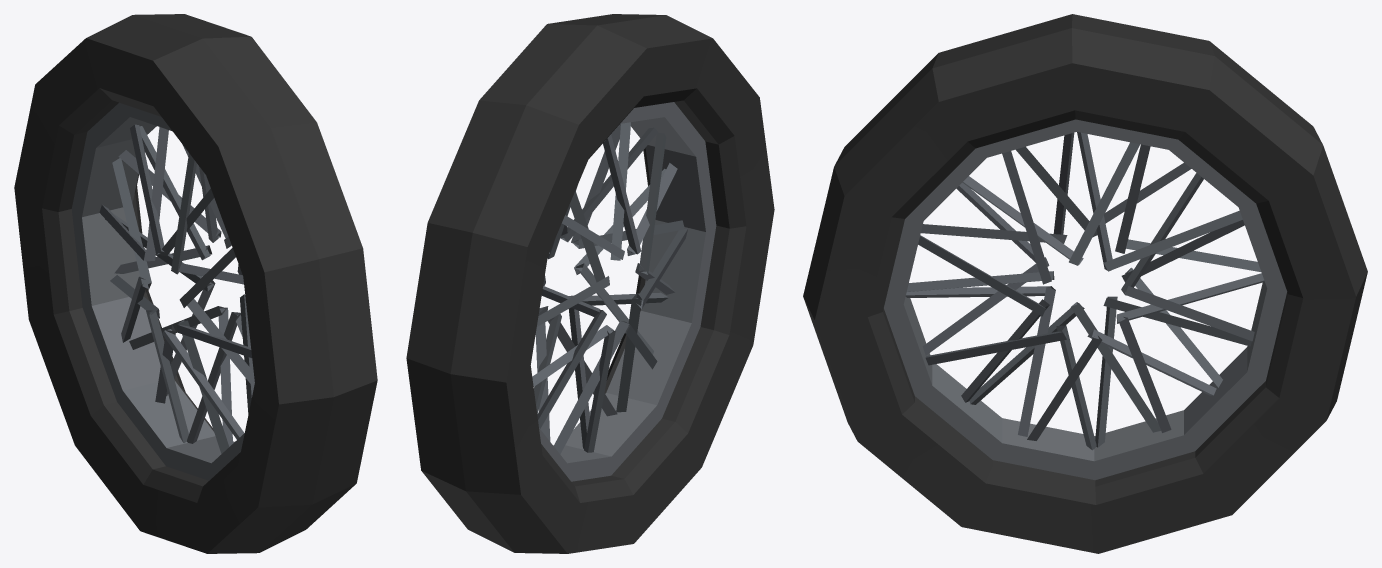
Rendered from SM_Veh_Motorbike_Apoco_Front_Wheel_01.obj.
3 renders of one model, left to right at view 1: azimuth 30°, elevation 25°; view 2: azimuth 150°, elevation 25°; view 3: azimuth 270°, elevation 25°, orthographic. The views are drawn at different scales.
Parts seen in each view (by area): view 1: SM_Veh_Motorbike_Apoco_Front_Wheel_01_0; view 2: SM_Veh_Motorbike_Apoco_Front_Wheel_01_0; view 3: SM_Veh_Motorbike_Apoco_Front_Wheel_01_0.
Boxes of the visible parts, left/top/right/bottom form: SM_Veh_Motorbike_Apoco_Front_Wheel_01_0: left=14, top=14, right=377, bottom=553; SM_Veh_Motorbike_Apoco_Front_Wheel_01_0: left=406, top=14, right=774, bottom=553; SM_Veh_Motorbike_Apoco_Front_Wheel_01_0: left=803, top=14, right=1367, bottom=553.
Bounding box in the file's own units: 0.1541 × 0.7468 × 0.7468.
Materials: 1 (1 with a texture image).
